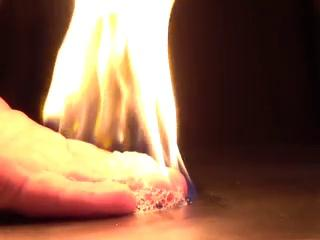Fire: (39, 1, 189, 202)
